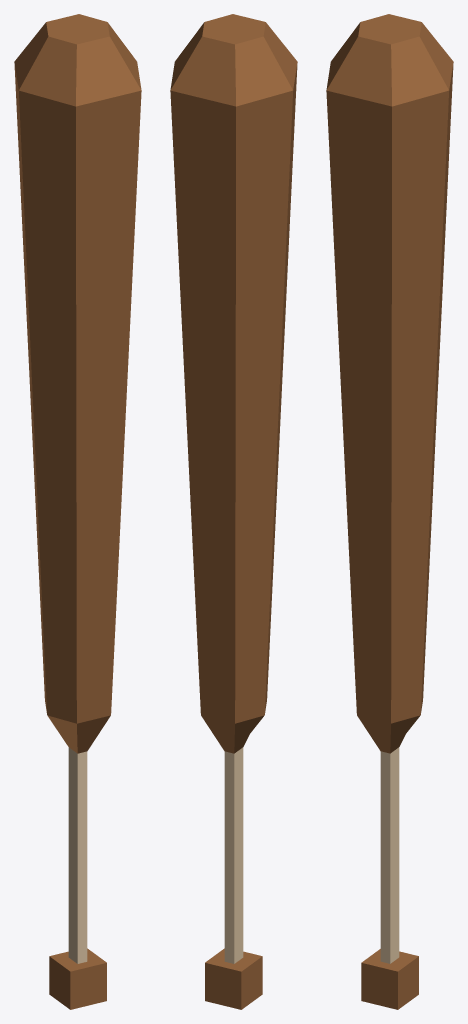
The model's file is Bat.fbx.
3 views of the same model, side by side, from view 1: azimuth 30°, elevation 25°; view 2: azimuth 150°, elevation 25°; view 3: azimuth 330°, elevation 25° (orthographic).
Visible parts, largest first — view 1: Bat; view 2: Bat; view 3: Bat.
Boxes of the visible parts, x1,y1,x2,y2 form: Bat: (14,14,141,1009); Bat: (170,14,297,1009); Bat: (326,14,453,1009).
Size of the model in its own units: 18.4 by 144 by 16.54.
